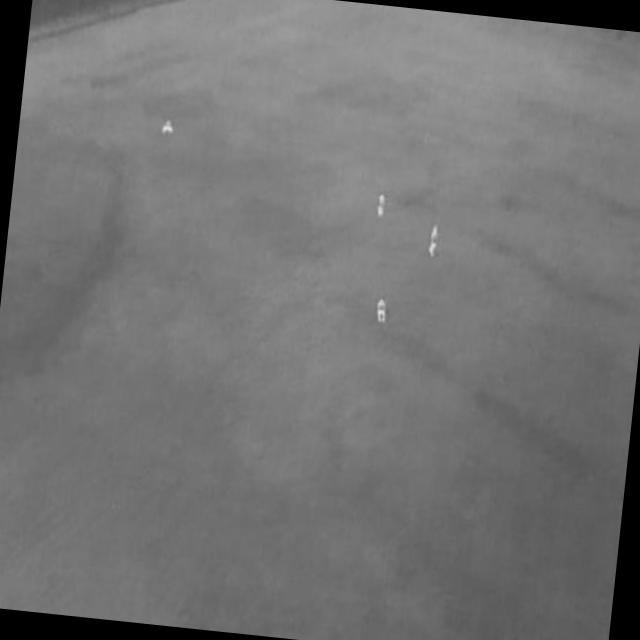person: (428, 226, 440, 259), (375, 297, 389, 325), (376, 193, 386, 219), (161, 120, 176, 136)
